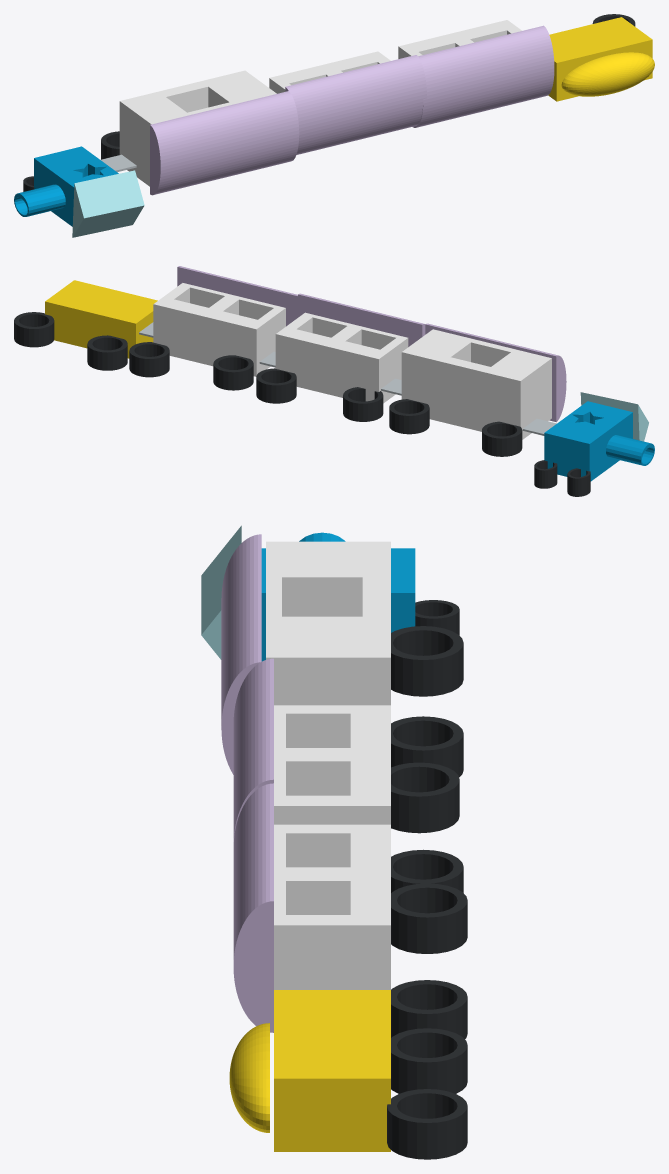
Rendered from tinker.obj.
3 renders of one model, top to bottom at view 1: azimuth 30°, elevation 25°; view 2: azimuth 150°, elevation 25°; view 3: azimuth 270°, elevation 25°, orthographic. The views are drawn at different scales.
Visible parts, largest first — view 1: group_0_13877221, group_0_16448250, group_0_16768282, group_0_40919, group_0_11593967, group_0_2829873, group_0_12568524; view 2: group_0_16448250, group_0_2829873, group_0_13877221, group_0_40919, group_0_16768282, group_0_11593967, group_0_12568524; view 3: group_0_16448250, group_0_2829873, group_0_16768282, group_0_13877221, group_0_40919, group_0_11593967.
Boxes of the visible parts, bbox=[...] form: group_0_13877221: bbox=[150, 25, 554, 195]; group_0_16448250: bbox=[119, 20, 521, 186]; group_0_16768282: bbox=[548, 17, 654, 101]; group_0_40919: bbox=[14, 146, 118, 226]; group_0_11593967: bbox=[72, 170, 144, 237]; group_0_2829873: bbox=[23, 14, 635, 191]; group_0_12568524: bbox=[100, 154, 136, 172]; group_0_16448250: bbox=[153, 283, 551, 439]; group_0_2829873: bbox=[14, 312, 590, 496]; group_0_13877221: bbox=[177, 266, 566, 422]; group_0_40919: bbox=[544, 401, 654, 481]; group_0_16768282: bbox=[45, 280, 157, 358]; group_0_11593967: bbox=[580, 392, 648, 441]; group_0_12568524: bbox=[139, 322, 556, 435]; group_0_16448250: bbox=[266, 541, 390, 989]; group_0_2829873: bbox=[387, 600, 467, 1159]; group_0_16768282: bbox=[229, 990, 390, 1151]; group_0_13877221: bbox=[221, 534, 273, 1032]; group_0_40919: bbox=[261, 532, 415, 661]; group_0_11593967: bbox=[201, 525, 241, 659].
Bounding box in the file's own units: 346 × 49 × 66.
